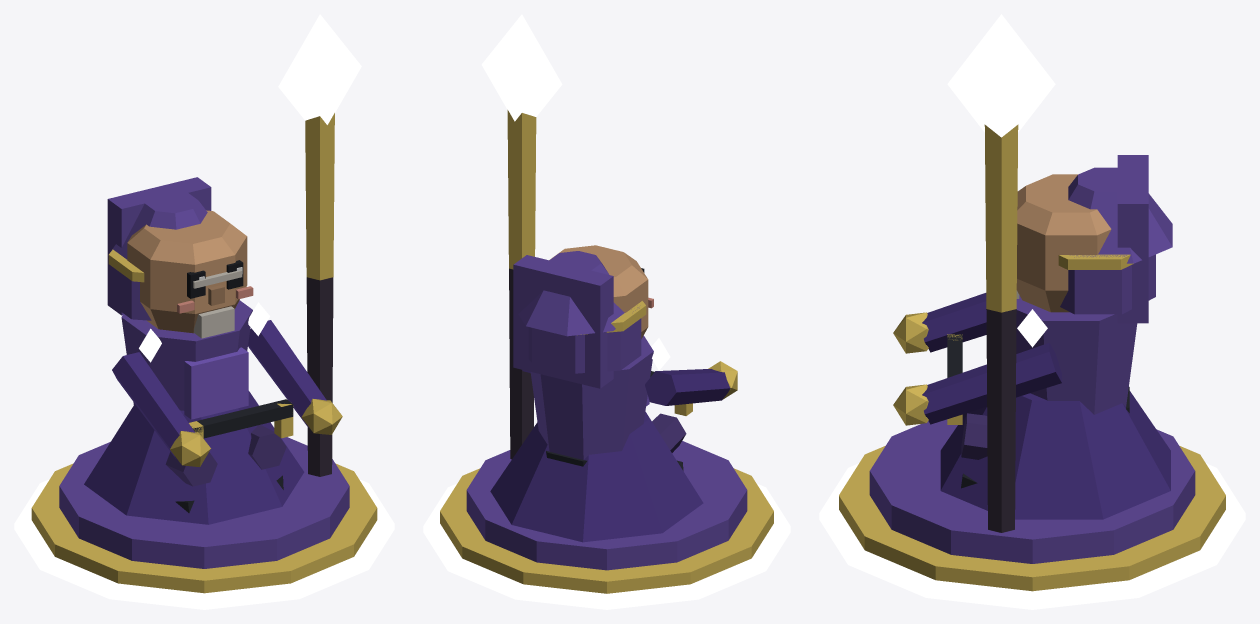
Rendered from hero_aaron.glb.
The picture shows the model from 3 angles, left to right: view 1: azimuth 30°, elevation 25°; view 2: azimuth 150°, elevation 25°; view 3: azimuth 270°, elevation 25°; orthographic projection. The views are drawn at different scales.
Parts seen in each view (by area): view 1: body, glow, arm_l, arm_r; view 2: body, glow, arm_l; view 3: body, glow, arm_r, arm_l.
Boxes of the visible parts, x1,y1,x2,y2 form: body: [31, 113, 377, 593]; glow: [14, 14, 394, 609]; arm_l: [112, 352, 210, 466]; arm_r: [248, 320, 342, 434]; body: [440, 110, 773, 593]; glow: [423, 14, 790, 609]; arm_l: [645, 361, 737, 405]; body: [839, 124, 1225, 591]; glow: [819, 14, 1245, 609]; arm_r: [893, 343, 1061, 425]; arm_l: [893, 293, 986, 353].
Bounding box in the file's own units: 1.1 × 1.66 × 1.1.
